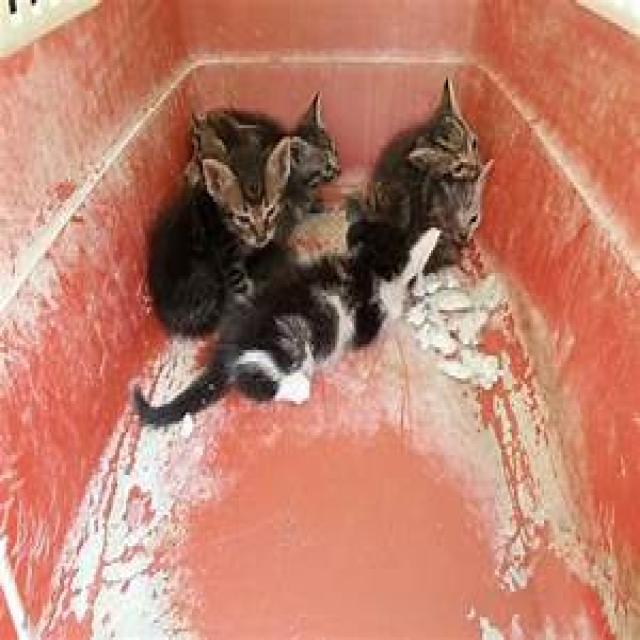cat: (144, 240, 414, 426), (150, 130, 289, 328), (185, 96, 345, 221), (367, 87, 474, 225), (368, 168, 501, 262)
